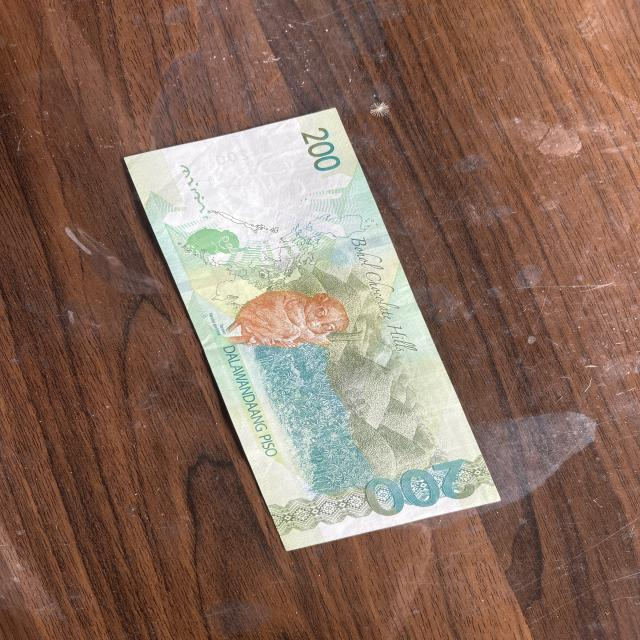200_tarsier: (212, 282, 358, 360)
200_tarsier_watermark: (164, 219, 250, 269)
value_watermark: (207, 145, 265, 170)
watermark: (200, 142, 334, 219)
